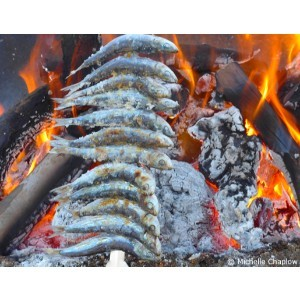sardine_brain food: (60, 86, 174, 259)
